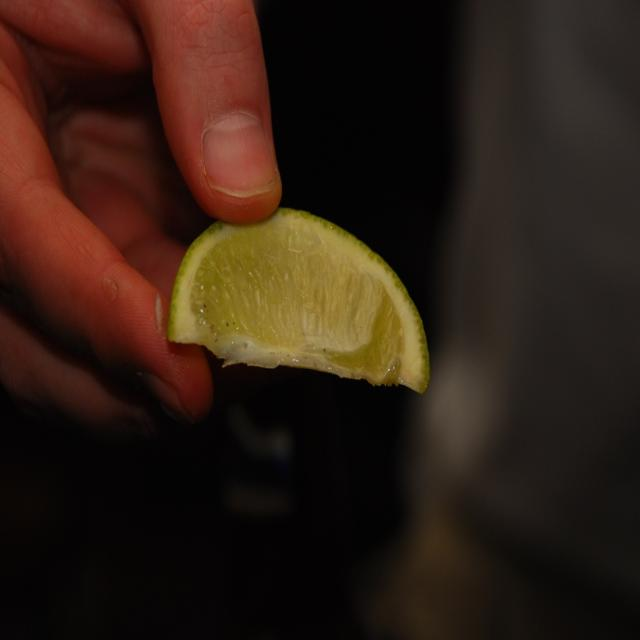Lemon: (167, 205, 431, 394)
